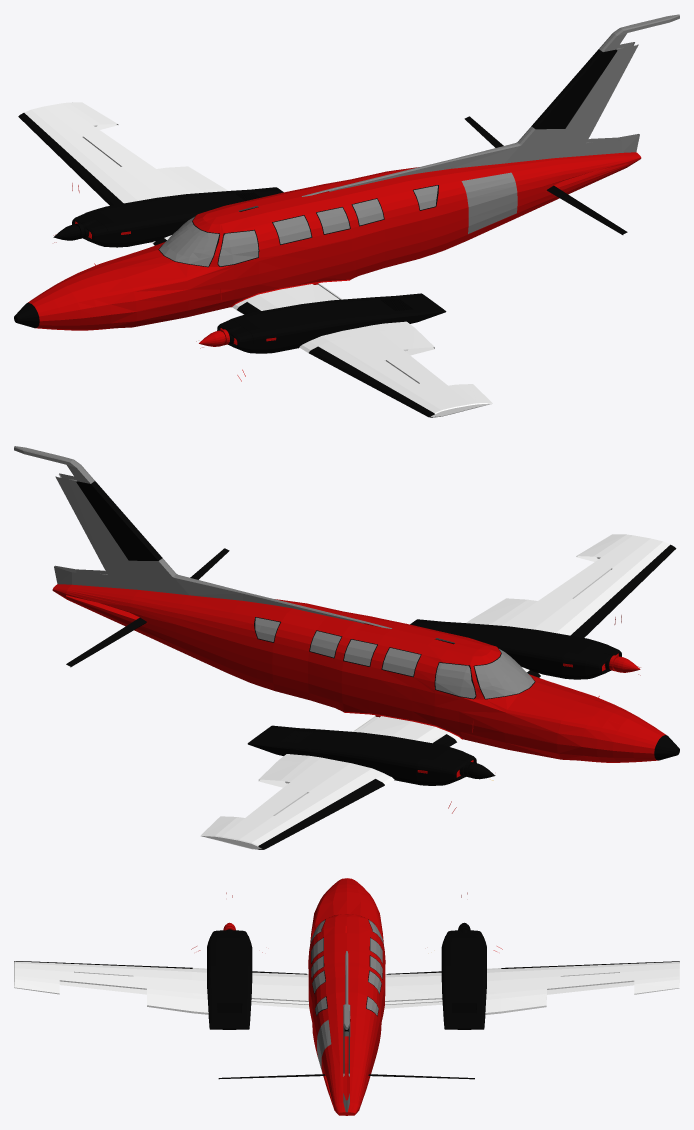
File: body.obj
3 views of the same model, one above another, from view 1: azimuth 30°, elevation 25°; view 2: azimuth 150°, elevation 25°; view 3: azimuth 270°, elevation 25° (orthographic). The views are drawn at different scales.
Visible parts, largest first — view 1: fuselage, wings, engine, tail, fuslage2, deicing, glass, access, cargo, access4, door, gtrim (+3 smaller); view 2: fuselage, wings, engine, fuslage2, tail, deicing, glass, access, access4, gtrim; view 3: wings, fuselage, engine, glass, deicing, access, tail, fuslage2, vents2, access2, gtrim.
Part boxes in pixels (x1=…): fuselage: x1=27, y1=152, x2=641, y2=321; wings: x1=24, y1=102, x2=492, y2=417; engine: x1=75, y1=187, x2=446, y2=353; tail: x1=302, y1=14, x2=679, y2=196; fuslage2: x1=35, y1=159, x2=640, y2=330; deicing: x1=18, y1=49, x2=627, y2=417; glass: x1=159, y1=185, x2=437, y2=266; access: x1=107, y1=198, x2=326, y2=348; cargo: x1=461, y1=172, x2=517, y2=217; access4: x1=61, y1=273, x2=188, y2=311; door: x1=303, y1=196, x2=356, y2=246; gtrim: x1=158, y1=185, x2=438, y2=267; fuselage: x1=52, y1=584, x2=666, y2=753; wings: x1=200, y1=534, x2=670, y2=849; engine: x1=247, y1=619, x2=618, y2=785; fuslage2: x1=53, y1=591, x2=658, y2=762; tail: x1=14, y1=446, x2=391, y2=628; deicing: x1=66, y1=481, x2=676, y2=849; glass: x1=255, y1=617, x2=534, y2=698; access: x1=367, y1=630, x2=586, y2=780; access4: x1=505, y1=705, x2=632, y2=743; gtrim: x1=254, y1=617, x2=535, y2=699; wings: x1=14, y1=961, x2=679, y2=1014; fuselage: x1=308, y1=878, x2=385, y2=1115; engine: x1=207, y1=930, x2=486, y2=1029; glass: x1=310, y1=920, x2=383, y2=1015; deicing: x1=14, y1=961, x2=679, y2=1079; access: x1=207, y1=942, x2=486, y2=968; tail: x1=343, y1=951, x2=350, y2=1112; fuslage2: x1=309, y1=926, x2=384, y2=1113; vents2: x1=217, y1=1004, x2=476, y2=1013; access2: x1=208, y1=938, x2=485, y2=944; gtrim: x1=310, y1=919, x2=383, y2=1016.
Size of the model in its own units: 41.2 by 10.24 by 44.3.
